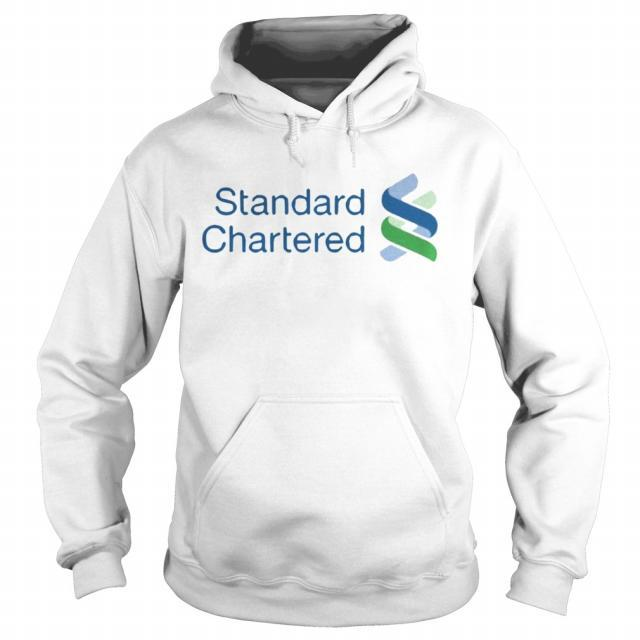Standard Chartered: (200, 172, 438, 262)
